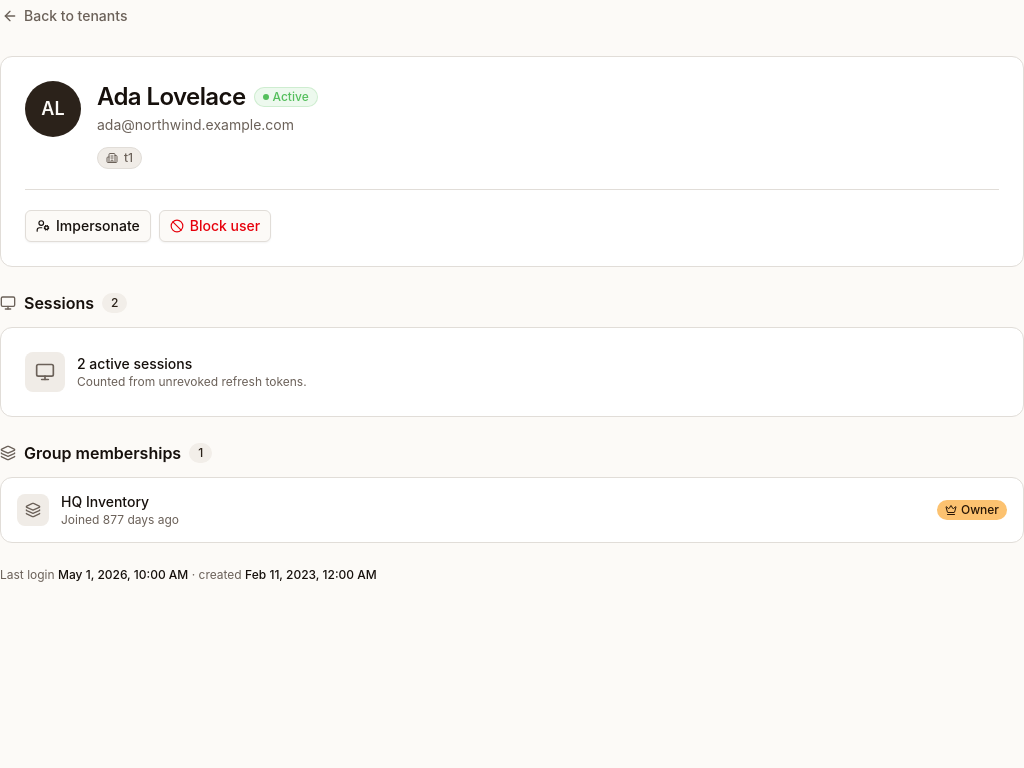
it: AdminUserDetailPage › surfaces the localized banner for admin.block.self_blocked
Step 1. Click the button with test id "admin-user-block" → point(215, 226), box [159, 210, 271, 242]
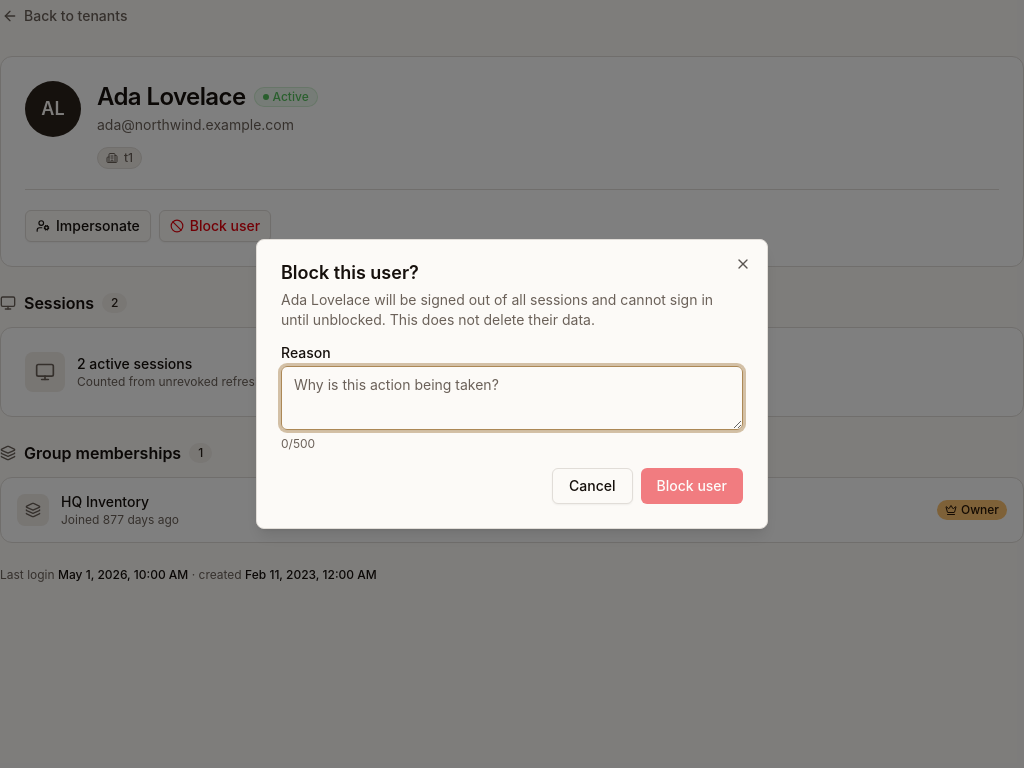
Step 2. Type "Some reason" into the text box with test id "admin-user-action-reason" → point(512, 398), box [281, 366, 743, 430]
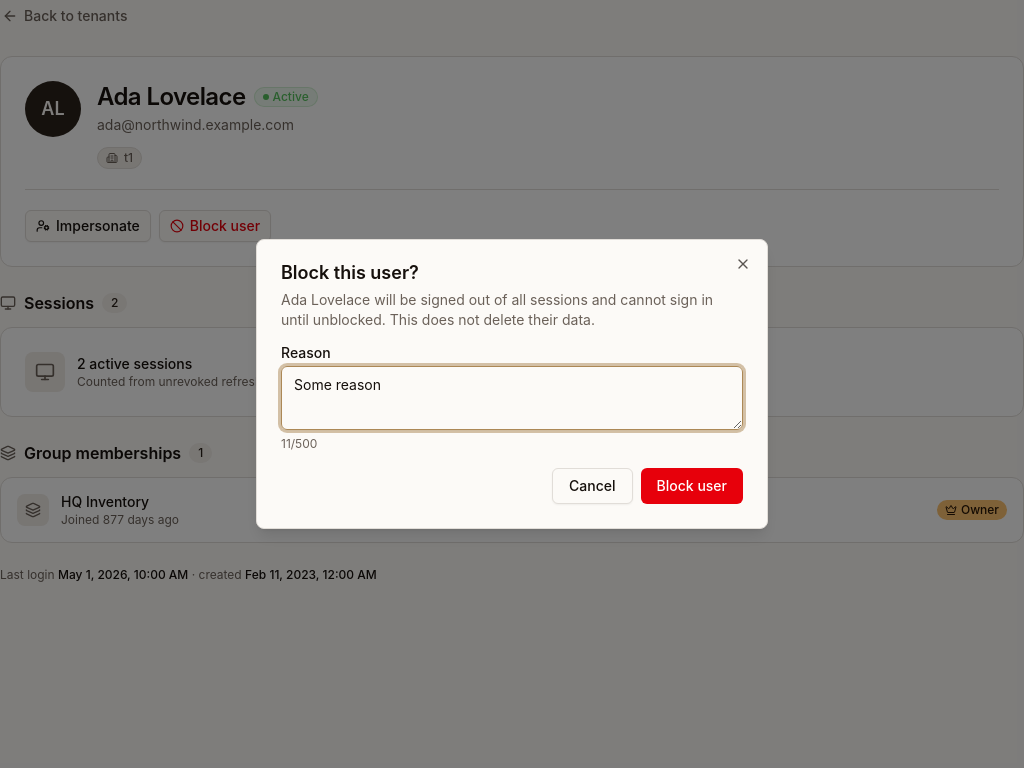
Step 3. Click the button with test id "admin-user-action-confirm" → point(692, 486), box [641, 468, 743, 504]
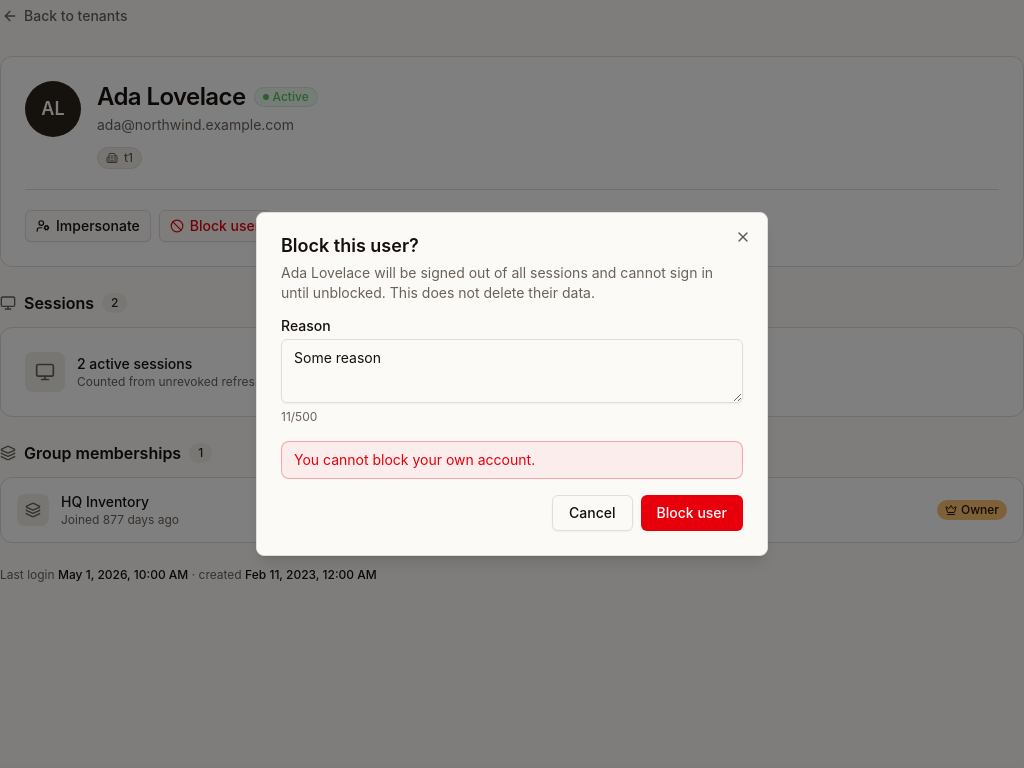
Result: the message with test id "admin-user-action-error" shows "your own account" at [294, 451, 535, 468]
